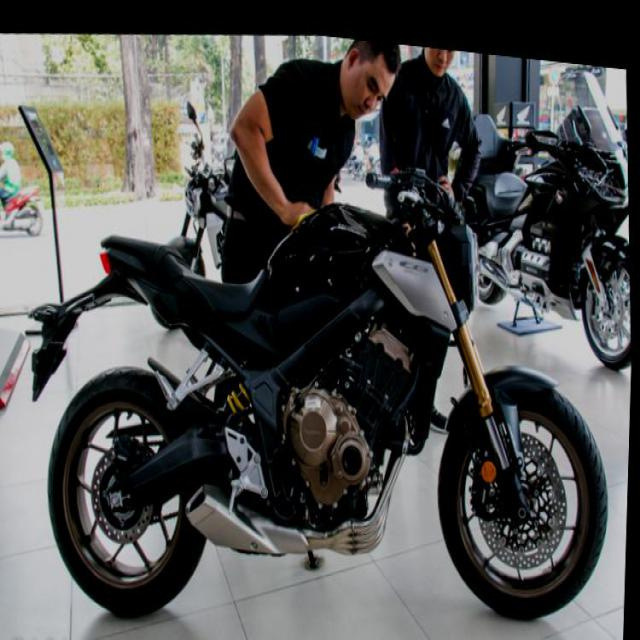CB650R: (32, 121, 626, 638)
